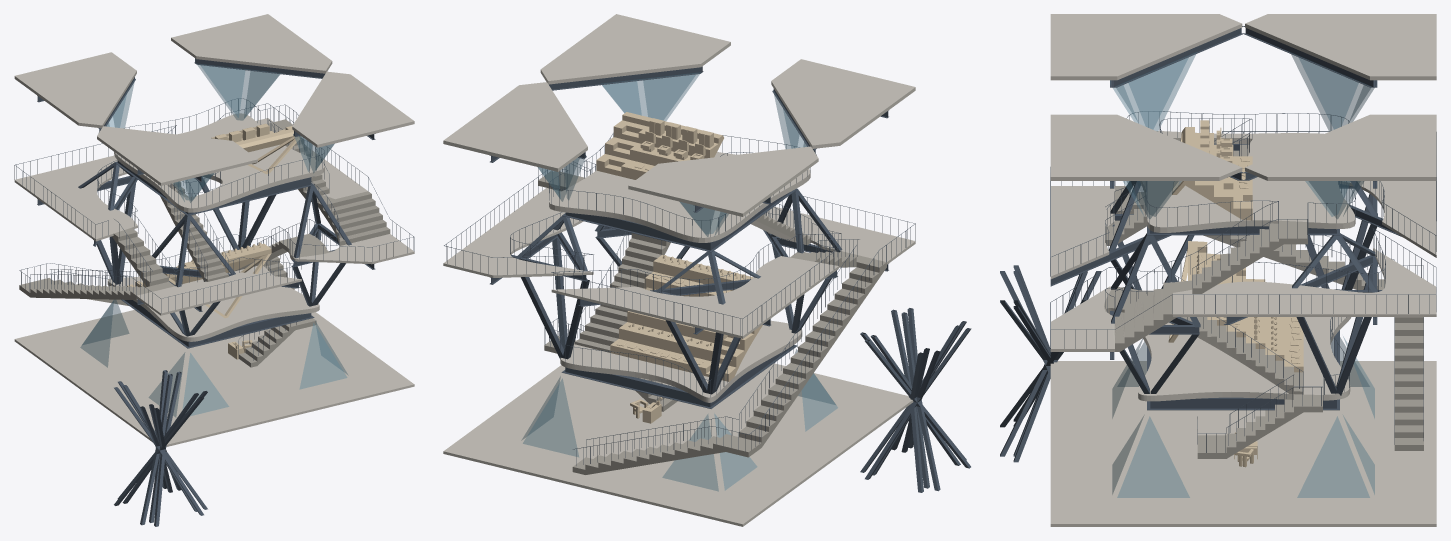
File: steel-final-space.glb
3 views of the same model, side by side, from view 1: azimuth 30°, elevation 25°; view 2: azimuth 150°, elevation 25°; view 3: azimuth 270°, elevation 25° (orthographic). The views are drawn at different scales.
Parts seen in each view (by area): view 1: steel final space; view 2: steel final space; view 3: steel final space.
Part boxes in pixels (bbox=[...]): steel final space: bbox=[14, 14, 414, 526]; steel final space: bbox=[443, 14, 971, 526]; steel final space: bbox=[1000, 14, 1436, 526].
Size of the model in its own units: 9.27 by 10 by 9.27.
